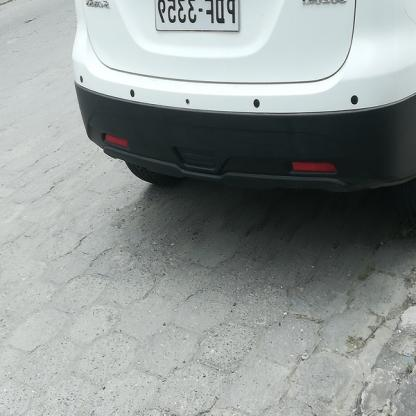Placa: (152, 0, 244, 32)
